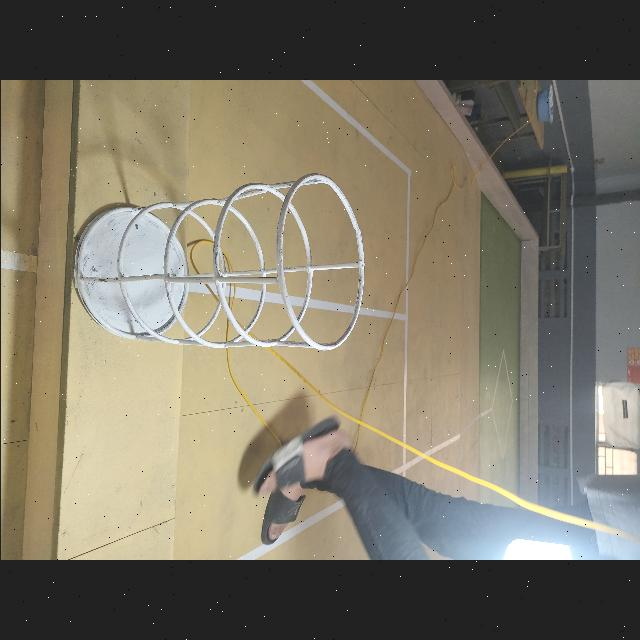S: (69, 167, 366, 354)
